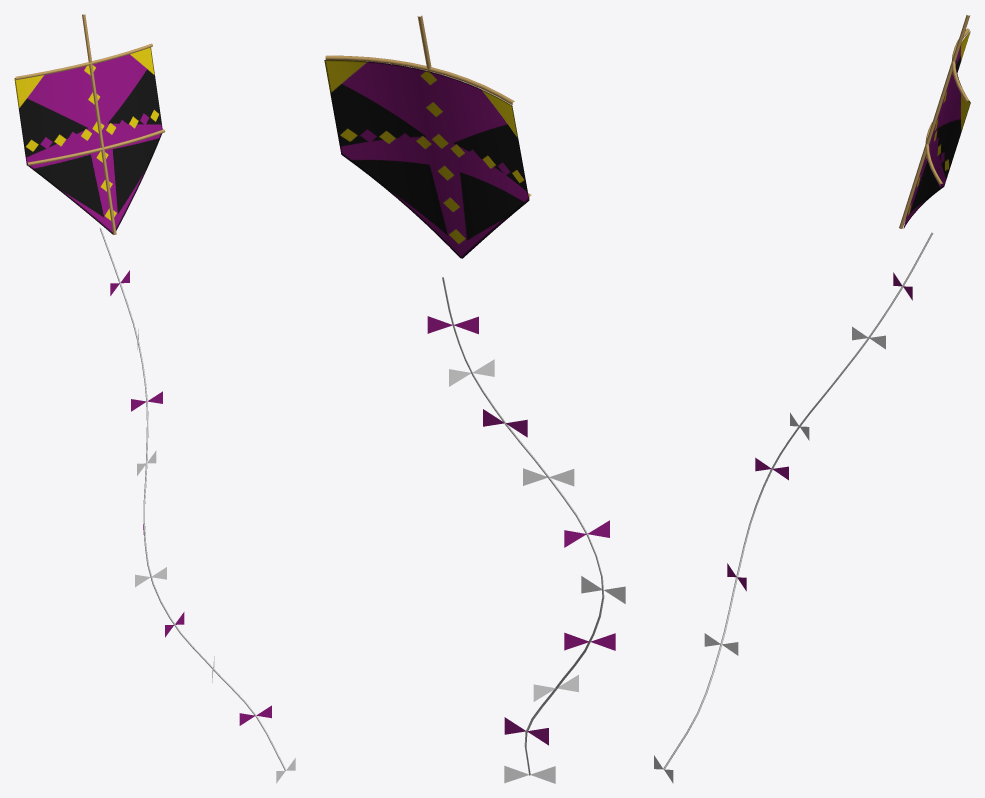
The model's file is quadrada-2-losangos.glb.
3 renders of one model, left to right at view 1: azimuth 30°, elevation 25°; view 2: azimuth 150°, elevation 25°; view 3: azimuth 270°, elevation 25°, orthographic. The views are drawn at different scales.
Visible parts, largest first — view 1: quadrada-2-losangos; view 2: quadrada-2-losangos; view 3: quadrada-2-losangos.
Boxes of the visible parts, box(x1,y1,x2,y2) form: quadrada-2-losangos: box(14, 14, 295, 783); quadrada-2-losangos: box(324, 15, 625, 783); quadrada-2-losangos: box(654, 15, 970, 783).
Size of the model in its own units: 1.16 by 5.21 by 2.05.
5 materials, 1 textured.
